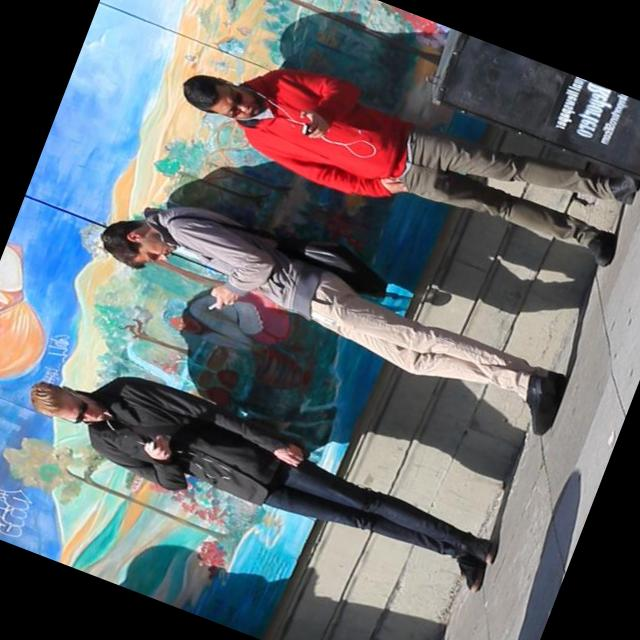bareface: (122, 226, 182, 272), (209, 80, 266, 125), (52, 388, 110, 430)
